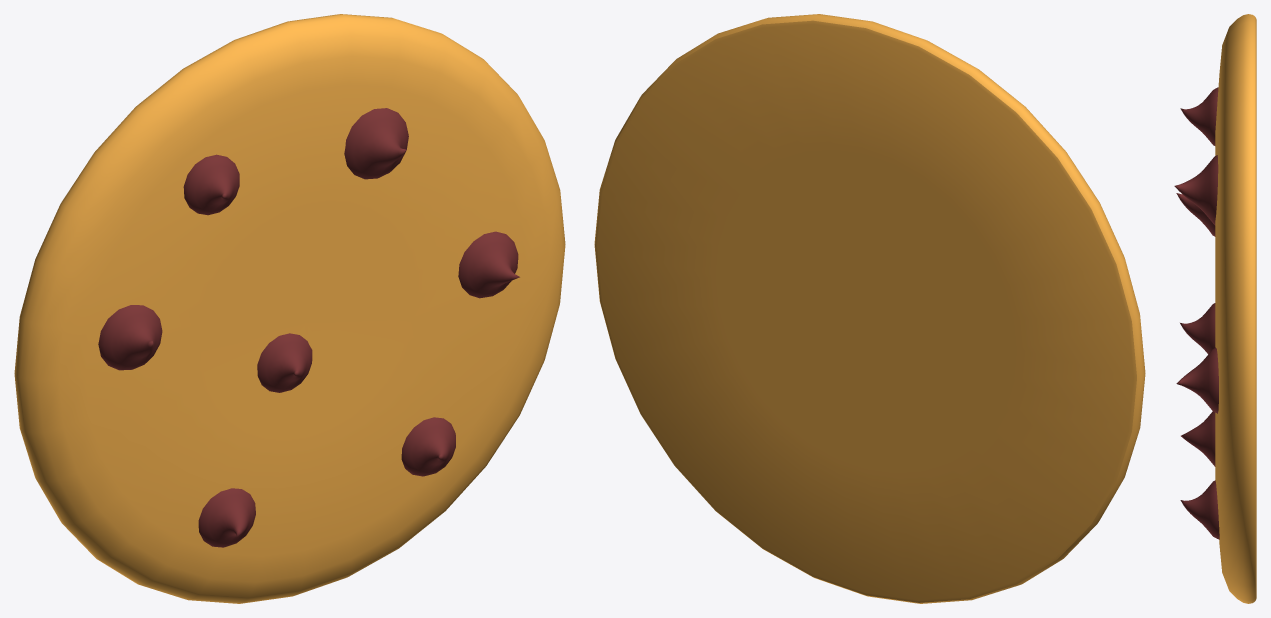
Rendered from cookie.gltf.
3 views of the same model, side by side, from view 1: azimuth 30°, elevation 25°; view 2: azimuth 150°, elevation 25°; view 3: azimuth 270°, elevation 25° (orthographic). The views are drawn at different scales.
Parts seen in each view (by area): view 1: Circle.2253; view 2: Circle.2253; view 3: Circle.2253.
Boxes of the visible parts, x1,y1,x2,y2 form: Circle.2253: [14, 14, 565, 603]; Circle.2253: [594, 14, 1145, 603]; Circle.2253: [1174, 14, 1256, 603].
Size of the model in its own units: 2.21 by 2.21 by 0.3087.
1 material, 1 textured.
